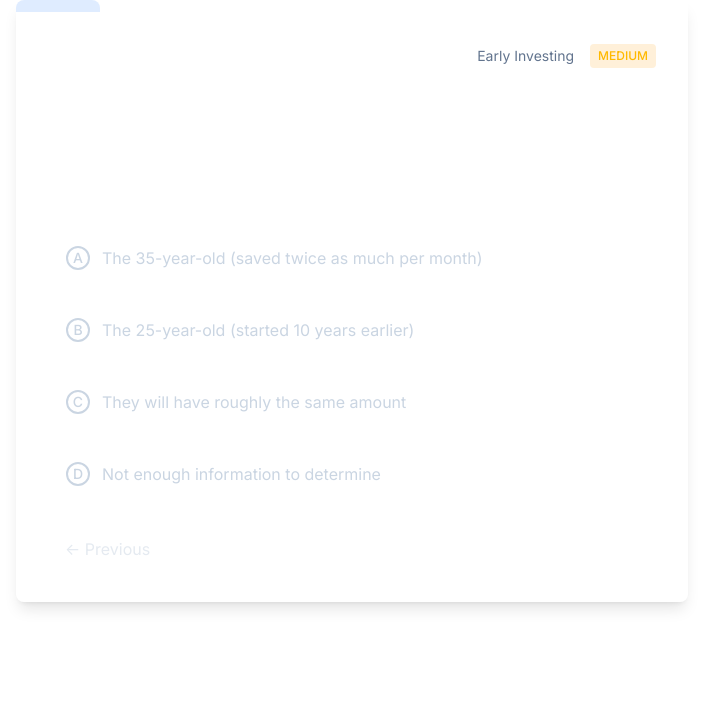
Test case: RetirementPlanningQuizEnhanced › displays explanations after submitting answers
Click the button "A The 35-year-old (saved twice as much per month)".
click(352, 258)  # box [48, 228, 656, 288]
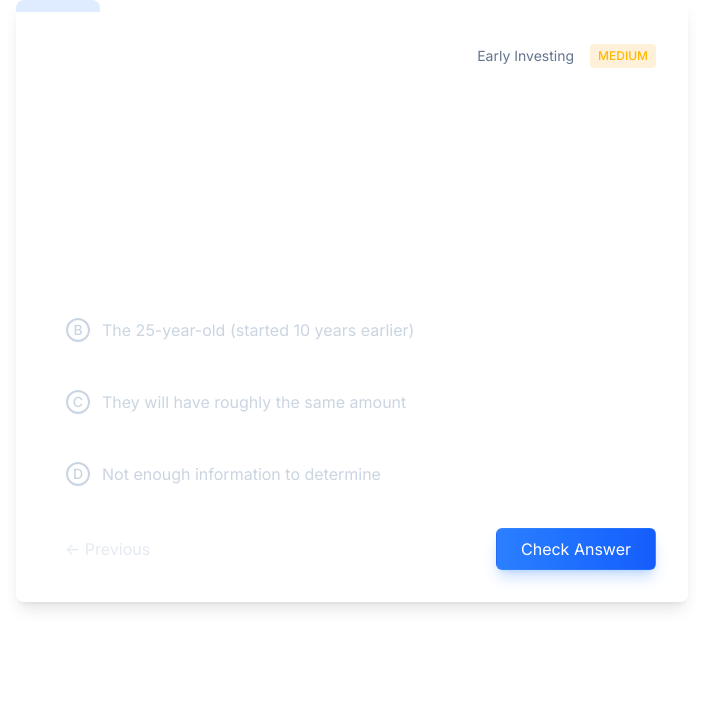
Click the button "Check Answer".
click(576, 549)  # box [496, 528, 656, 570]
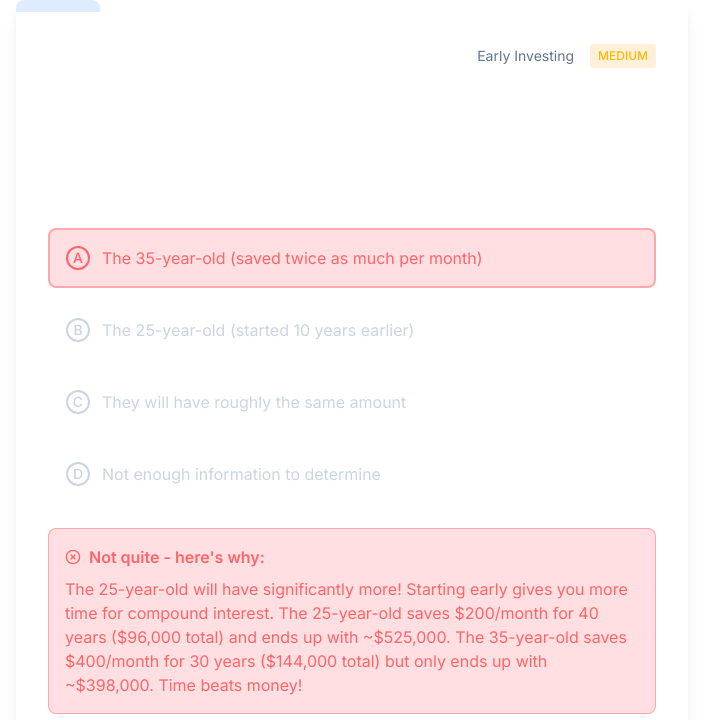
Expected: the heading "Not quite - here's why:" is shown, [65, 547, 265, 567]
